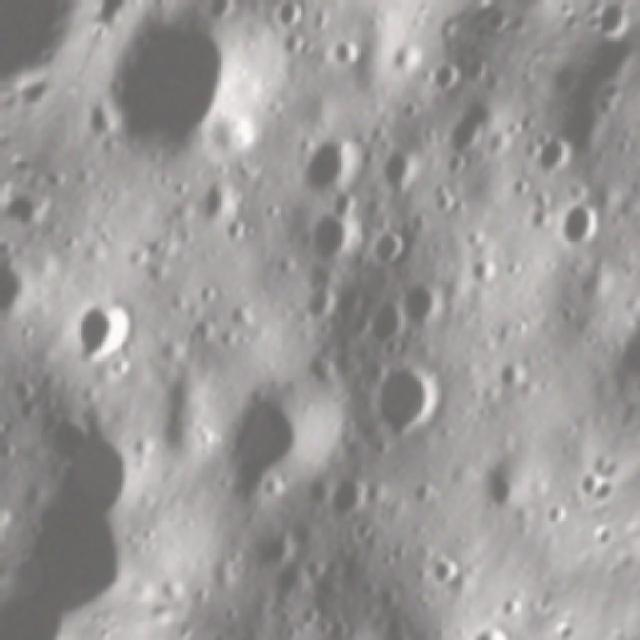crater: (77, 0, 258, 174), (198, 370, 331, 522), (354, 349, 454, 457), (55, 282, 152, 381), (286, 118, 377, 215), (433, 91, 509, 180), (536, 181, 612, 262), (385, 262, 460, 340), (291, 207, 367, 282), (515, 123, 587, 197), (361, 138, 432, 210), (348, 283, 418, 355), (359, 209, 427, 282), (315, 464, 383, 534), (600, 350, 640, 448), (483, 352, 539, 408), (416, 52, 469, 105), (422, 545, 470, 600), (318, 32, 368, 82), (10, 188, 56, 242), (263, 0, 314, 46), (450, 609, 518, 640), (566, 464, 602, 510), (0, 496, 18, 532), (256, 0, 299, 9)
